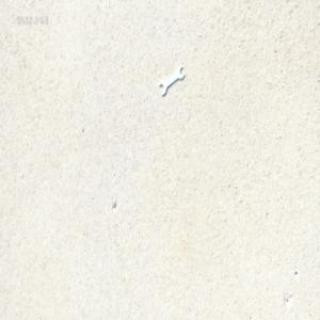Wrenchtrack_idkeyframe: (158, 64, 184, 96)
